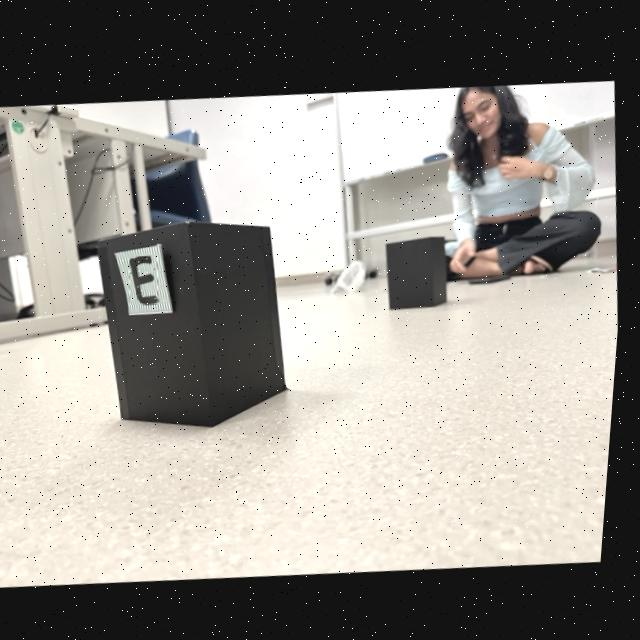E: (133, 254, 162, 302)
